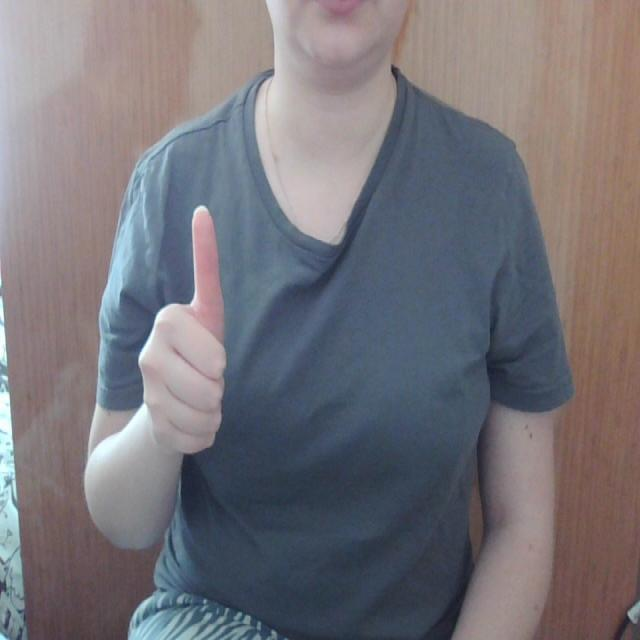Tamam: (136, 203, 234, 465)
